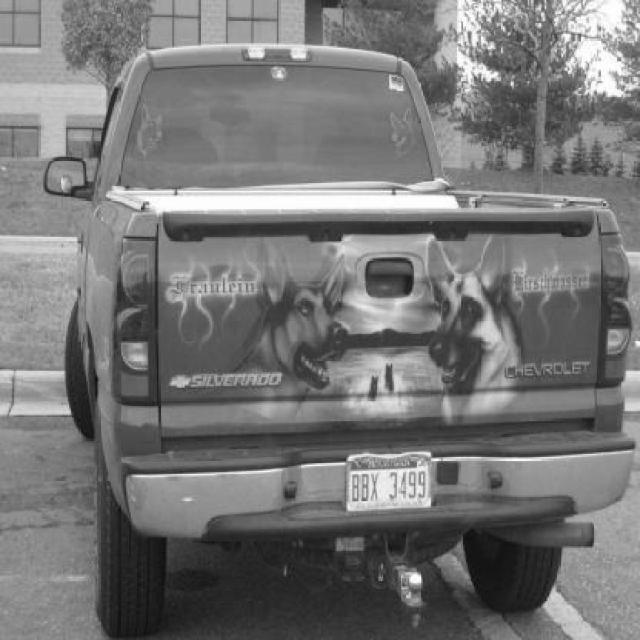car: (41, 41, 633, 640)
license-plate: (342, 456, 436, 512)
